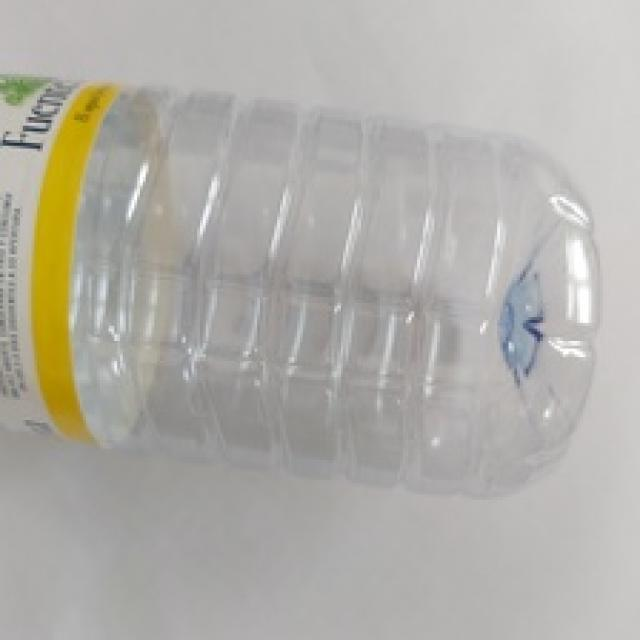Plastic: (0, 80, 605, 497)
